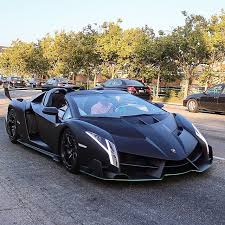Lamborghini: (8, 90, 177, 176)
